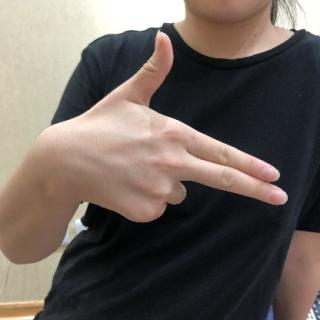GHAYN: (45, 27, 292, 226)
